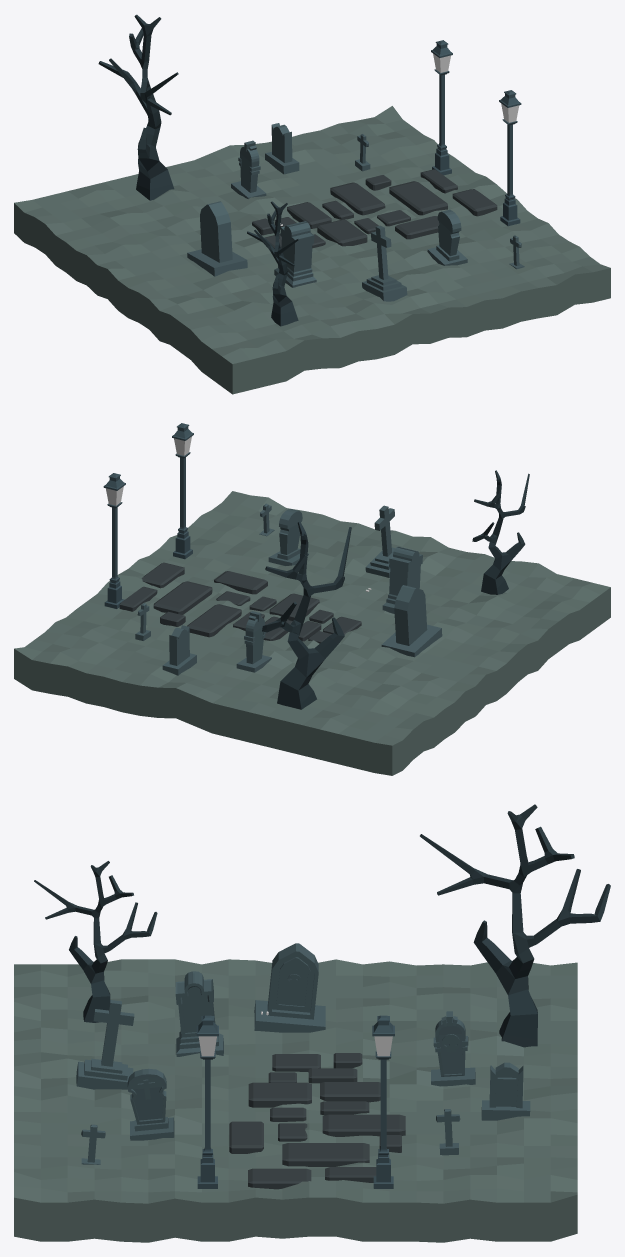
The model's file is graveyard.fbx.
3 views of the same model, one above another, from view 1: azimuth 30°, elevation 25°; view 2: azimuth 150°, elevation 25°; view 3: azimuth 270°, elevation 25° (orthographic). The views are drawn at different scales.
Visible parts, largest first — view 1: Plane.001, Cube.012, Cube.011, Cube.008, Cube.034, Cube.015, Cube.013, Cube.014, Cube.009, Cube.028, Cube.016, Cube.025 (+5 smaller); view 2: Plane.001, Cube.012, Cube.011, Cube.008, Cube.034, Cube.013, Cube.014, Cube.009, Cube.028, Cube.016, Cube.015, Cube.025 (+5 smaller); view 3: Plane.001, Cube.012, Cube.011, Cube.008, Cube.015, Cube.034, Cube.009, Cube.016, Cube.014, Cube.028, Cube.013, Cube (+10 smaller).
Part boxes in pixels (left/top/right/bottom): Plane.001: left=14, top=106, right=610, bottom=394; Cube.012: left=98, top=14, right=178, bottom=200; Cube.011: left=187, top=201, right=247, bottom=276; Cube.008: left=247, top=201, right=298, bottom=326; Cube.034: left=274, top=221, right=316, bottom=287; Cube.015: left=362, top=225, right=407, bottom=301; Cube.013: left=499, top=90, right=521, bottom=226; Cube.014: left=431, top=40, right=452, bottom=175; Cube.009: left=427, top=209, right=467, bottom=265; Cube.028: left=389, top=181, right=447, bottom=215; Cube.016: left=265, top=123, right=299, bottom=174; Cube.025: left=330, top=182, right=385, bottom=215; Plane.001: left=14, top=491, right=610, bottom=775; Cube.012: left=262, top=521, right=351, bottom=709; Cube.011: left=381, top=585, right=442, bottom=657; Cube.008: left=472, top=470, right=529, bottom=594; Cube.034: left=382, top=546, right=422, bottom=613; Cube.013: left=172, top=423, right=193, bottom=559; Cube.014: left=103, top=473, right=125, bottom=608; Cube.009: left=268, top=509, right=308, bottom=565; Cube.028: left=153, top=581, right=212, bottom=614; Cube.016: left=162, top=625, right=196, bottom=675; Cube.015: left=365, top=505, right=394, bottom=577; Cube.025: left=187, top=604, right=241, bottom=637; Plane.001: left=14, top=959, right=577, bottom=1242; Cube.012: left=420, top=804, right=610, bottom=1047; Cube.011: left=254, top=943, right=325, bottom=1032; Cube.008: left=34, top=861, right=157, bottom=1022; Cube.015: left=76, top=1000, right=134, bottom=1089; Cube.034: left=175, top=971, right=223, bottom=1056; Cube.009: left=127, top=1068, right=174, bottom=1140; Cube.016: left=481, top=1062, right=530, bottom=1120; Cube.014: left=372, top=1015, right=394, bottom=1188; Cube.028: left=282, top=1143, right=369, bottom=1166; Cube.013: left=196, top=1015, right=218, bottom=1188; Cube: left=431, top=1018, right=475, bottom=1086.
Size of the model in its own units: 994 by 523 by 1053.
